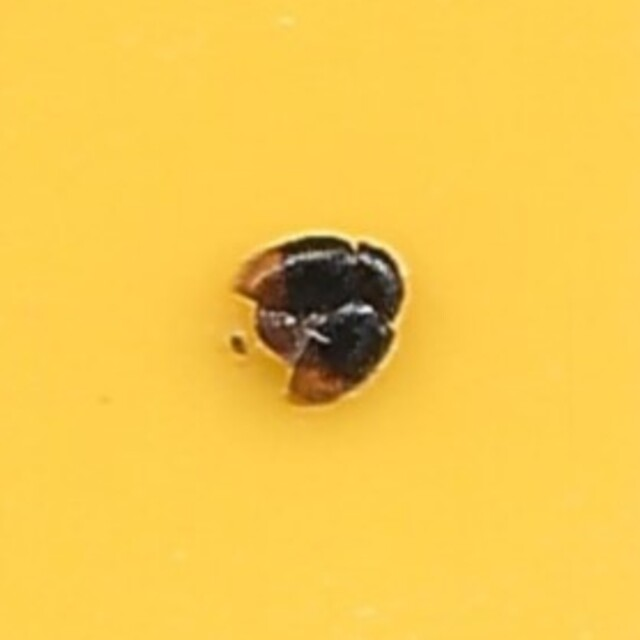Coleoptera: (230, 231, 410, 409)
